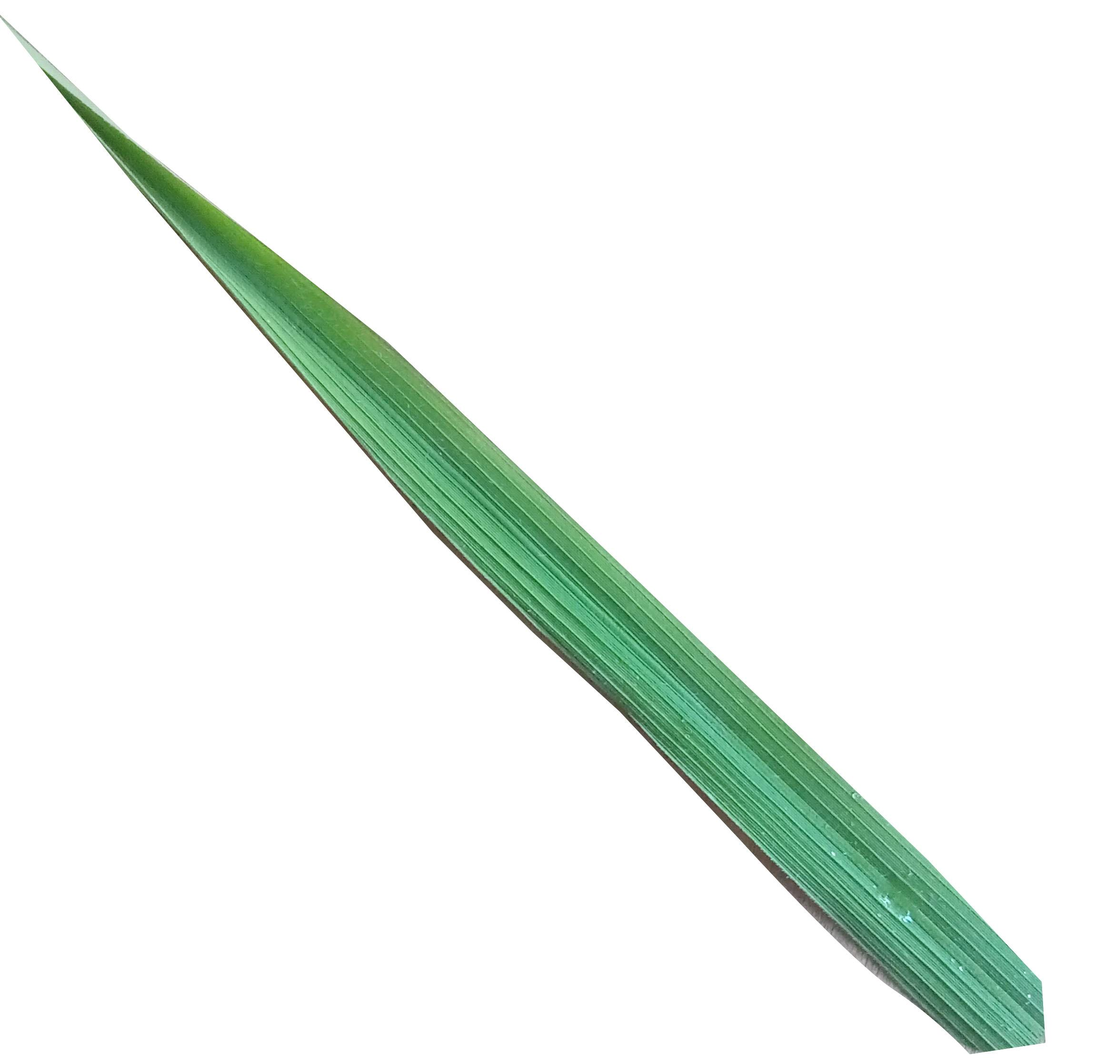Healthy: (0, 13, 1051, 1058)
